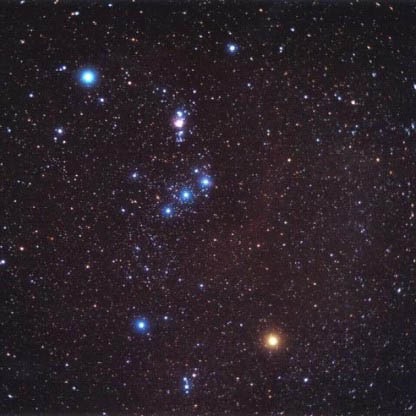Orion: (253, 322, 290, 358), (76, 62, 103, 95), (131, 311, 164, 333), (221, 33, 244, 60), (174, 182, 195, 209), (156, 202, 177, 226), (195, 170, 216, 193)
